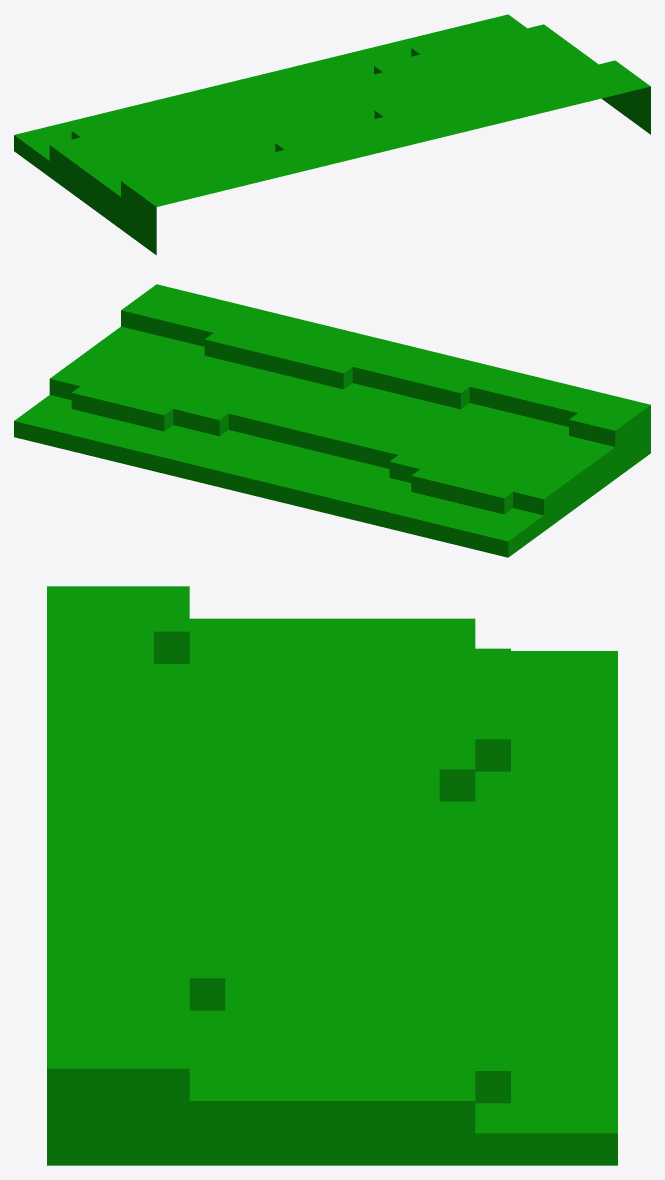
Rendered from Straight20.fbx.
The picture shows the model from 3 angles, top to bottom: view 1: azimuth 30°, elevation 25°; view 2: azimuth 150°, elevation 25°; view 3: azimuth 270°, elevation 25°; orthographic projection. The views are drawn at different scales.
Parts seen in each view (by area): view 1: Matrix; view 2: Matrix; view 3: Matrix.
Part boxes in pixels (left/top/right/bottom): Matrix: left=14, top=14, right=650, bottom=255; Matrix: left=14, top=284, right=650, bottom=557; Matrix: left=47, top=586, right=617, bottom=1165.
Size of the model in its own units: 32 by 3 by 16.
1 material, 1 textured.
